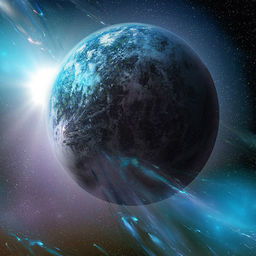planet: (43, 21, 229, 208)
